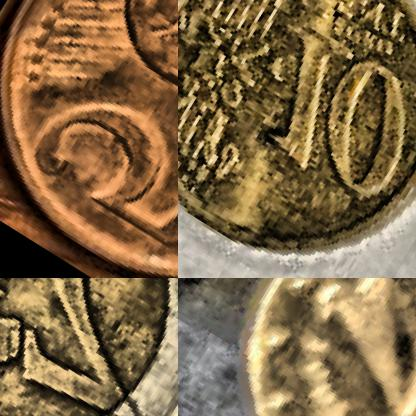coin: (178, 0, 415, 277), (0, 0, 177, 277), (185, 278, 415, 415), (0, 278, 177, 415)
